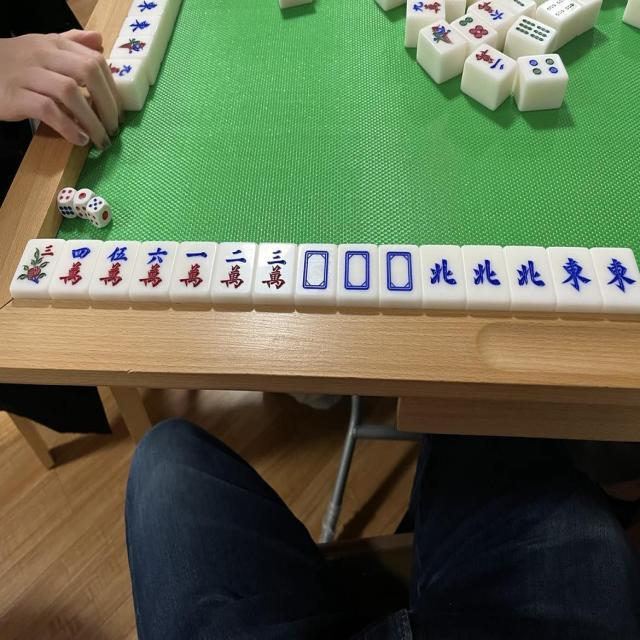bs3: (15, 240, 60, 292)
hdw: (382, 248, 417, 298), (342, 247, 376, 297), (300, 246, 334, 296)
hwe: (602, 250, 640, 306), (557, 250, 594, 304)
hwn: (468, 248, 504, 296), (426, 250, 460, 299), (513, 253, 548, 300)
sc1: (174, 245, 210, 293)
sc2: (219, 246, 252, 294)
sc3: (260, 244, 294, 293)
sc4: (56, 242, 95, 292)
sc5: (96, 241, 134, 291)
sc6: (138, 242, 174, 292)
